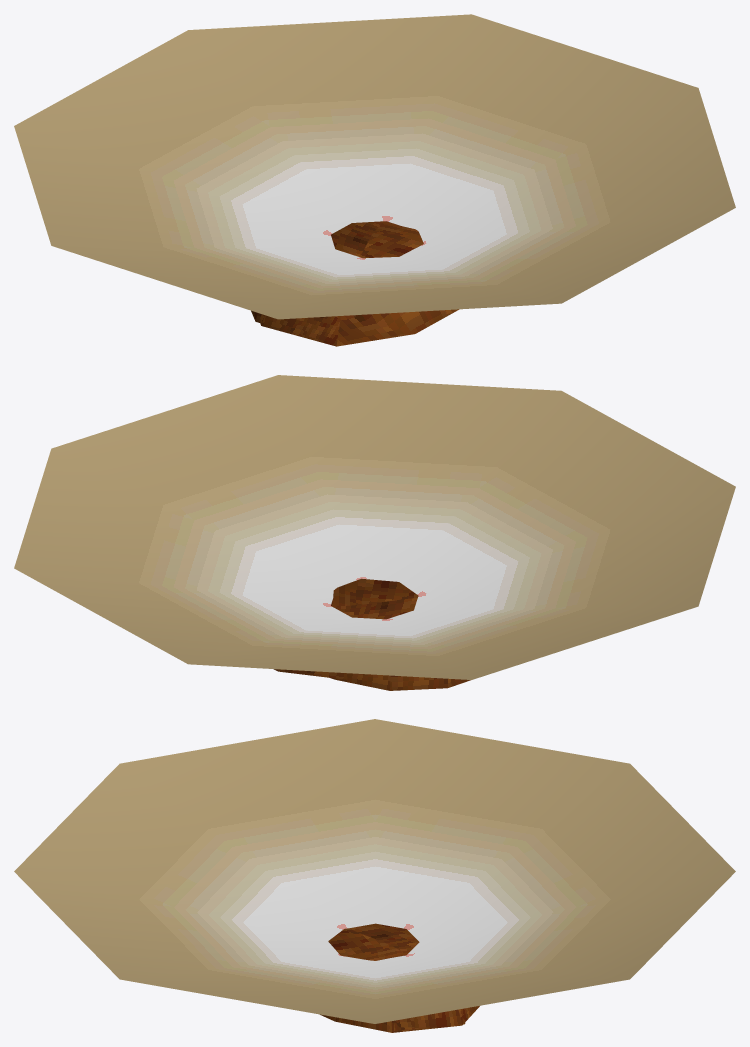
3 renders of one model, top to bottom at view 1: azimuth 30°, elevation 25°; view 2: azimuth 150°, elevation 25°; view 3: azimuth 270°, elevation 25°, orthographic. The views are drawn at different scales.
Parts seen in each view (by area): view 1: 1144ucc_mis_ag; view 2: 1144ucc_mis_ag; view 3: 1144ucc_mis_ag.
Boxes of the visible parts, x1,y1,x2,y2 form: 1144ucc_mis_ag: [14, 14, 735, 346]; 1144ucc_mis_ag: [14, 375, 735, 690]; 1144ucc_mis_ag: [14, 719, 735, 1032].
Bounding box in the file's own units: 0.9009 × 0.1863 × 0.9009.
4 materials, 4 textured.
